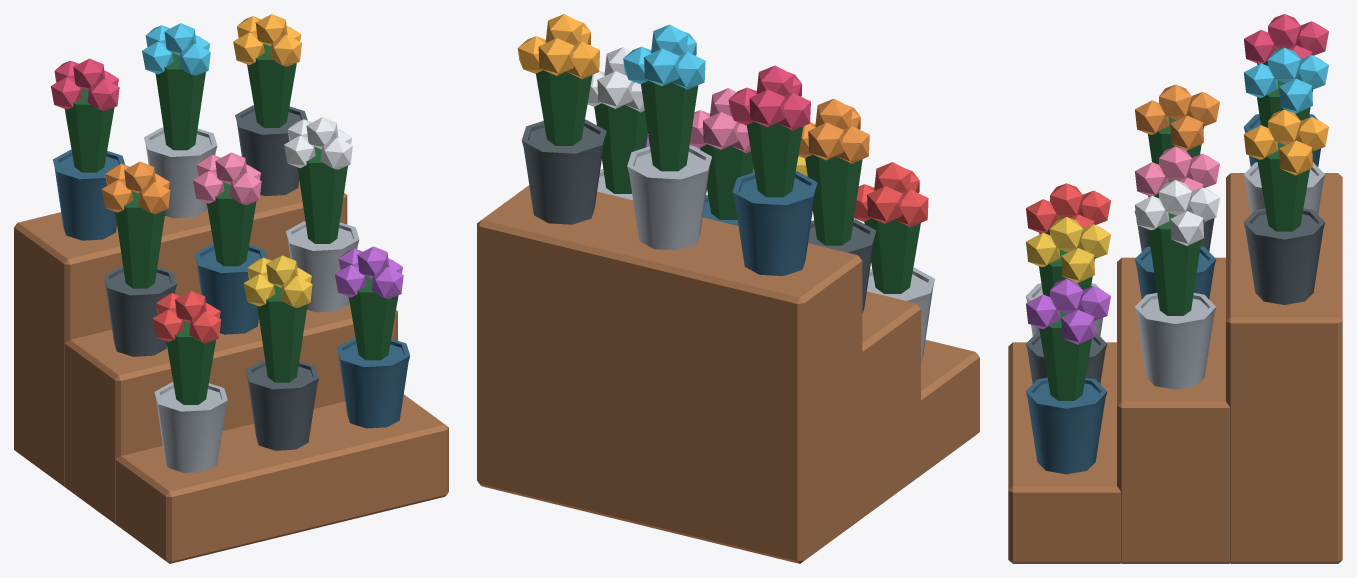
The model's file is flower_stand.glb.
The picture shows the model from 3 angles, left to right: view 1: azimuth 30°, elevation 25°; view 2: azimuth 150°, elevation 25°; view 3: azimuth 270°, elevation 25°; orthographic projection. The views are drawn at different scales.
Parts seen in each view (by area): view 1: flower_stand; view 2: flower_stand; view 3: flower_stand.
Part boxes in pixels (<box>): flower_stand: <box>14,14,448,563</box>; flower_stand: <box>477,14,979,563</box>; flower_stand: <box>1008,14,1342,563</box>.
Bounding box in the file's own units: 0.9 × 1.26 × 0.86.
